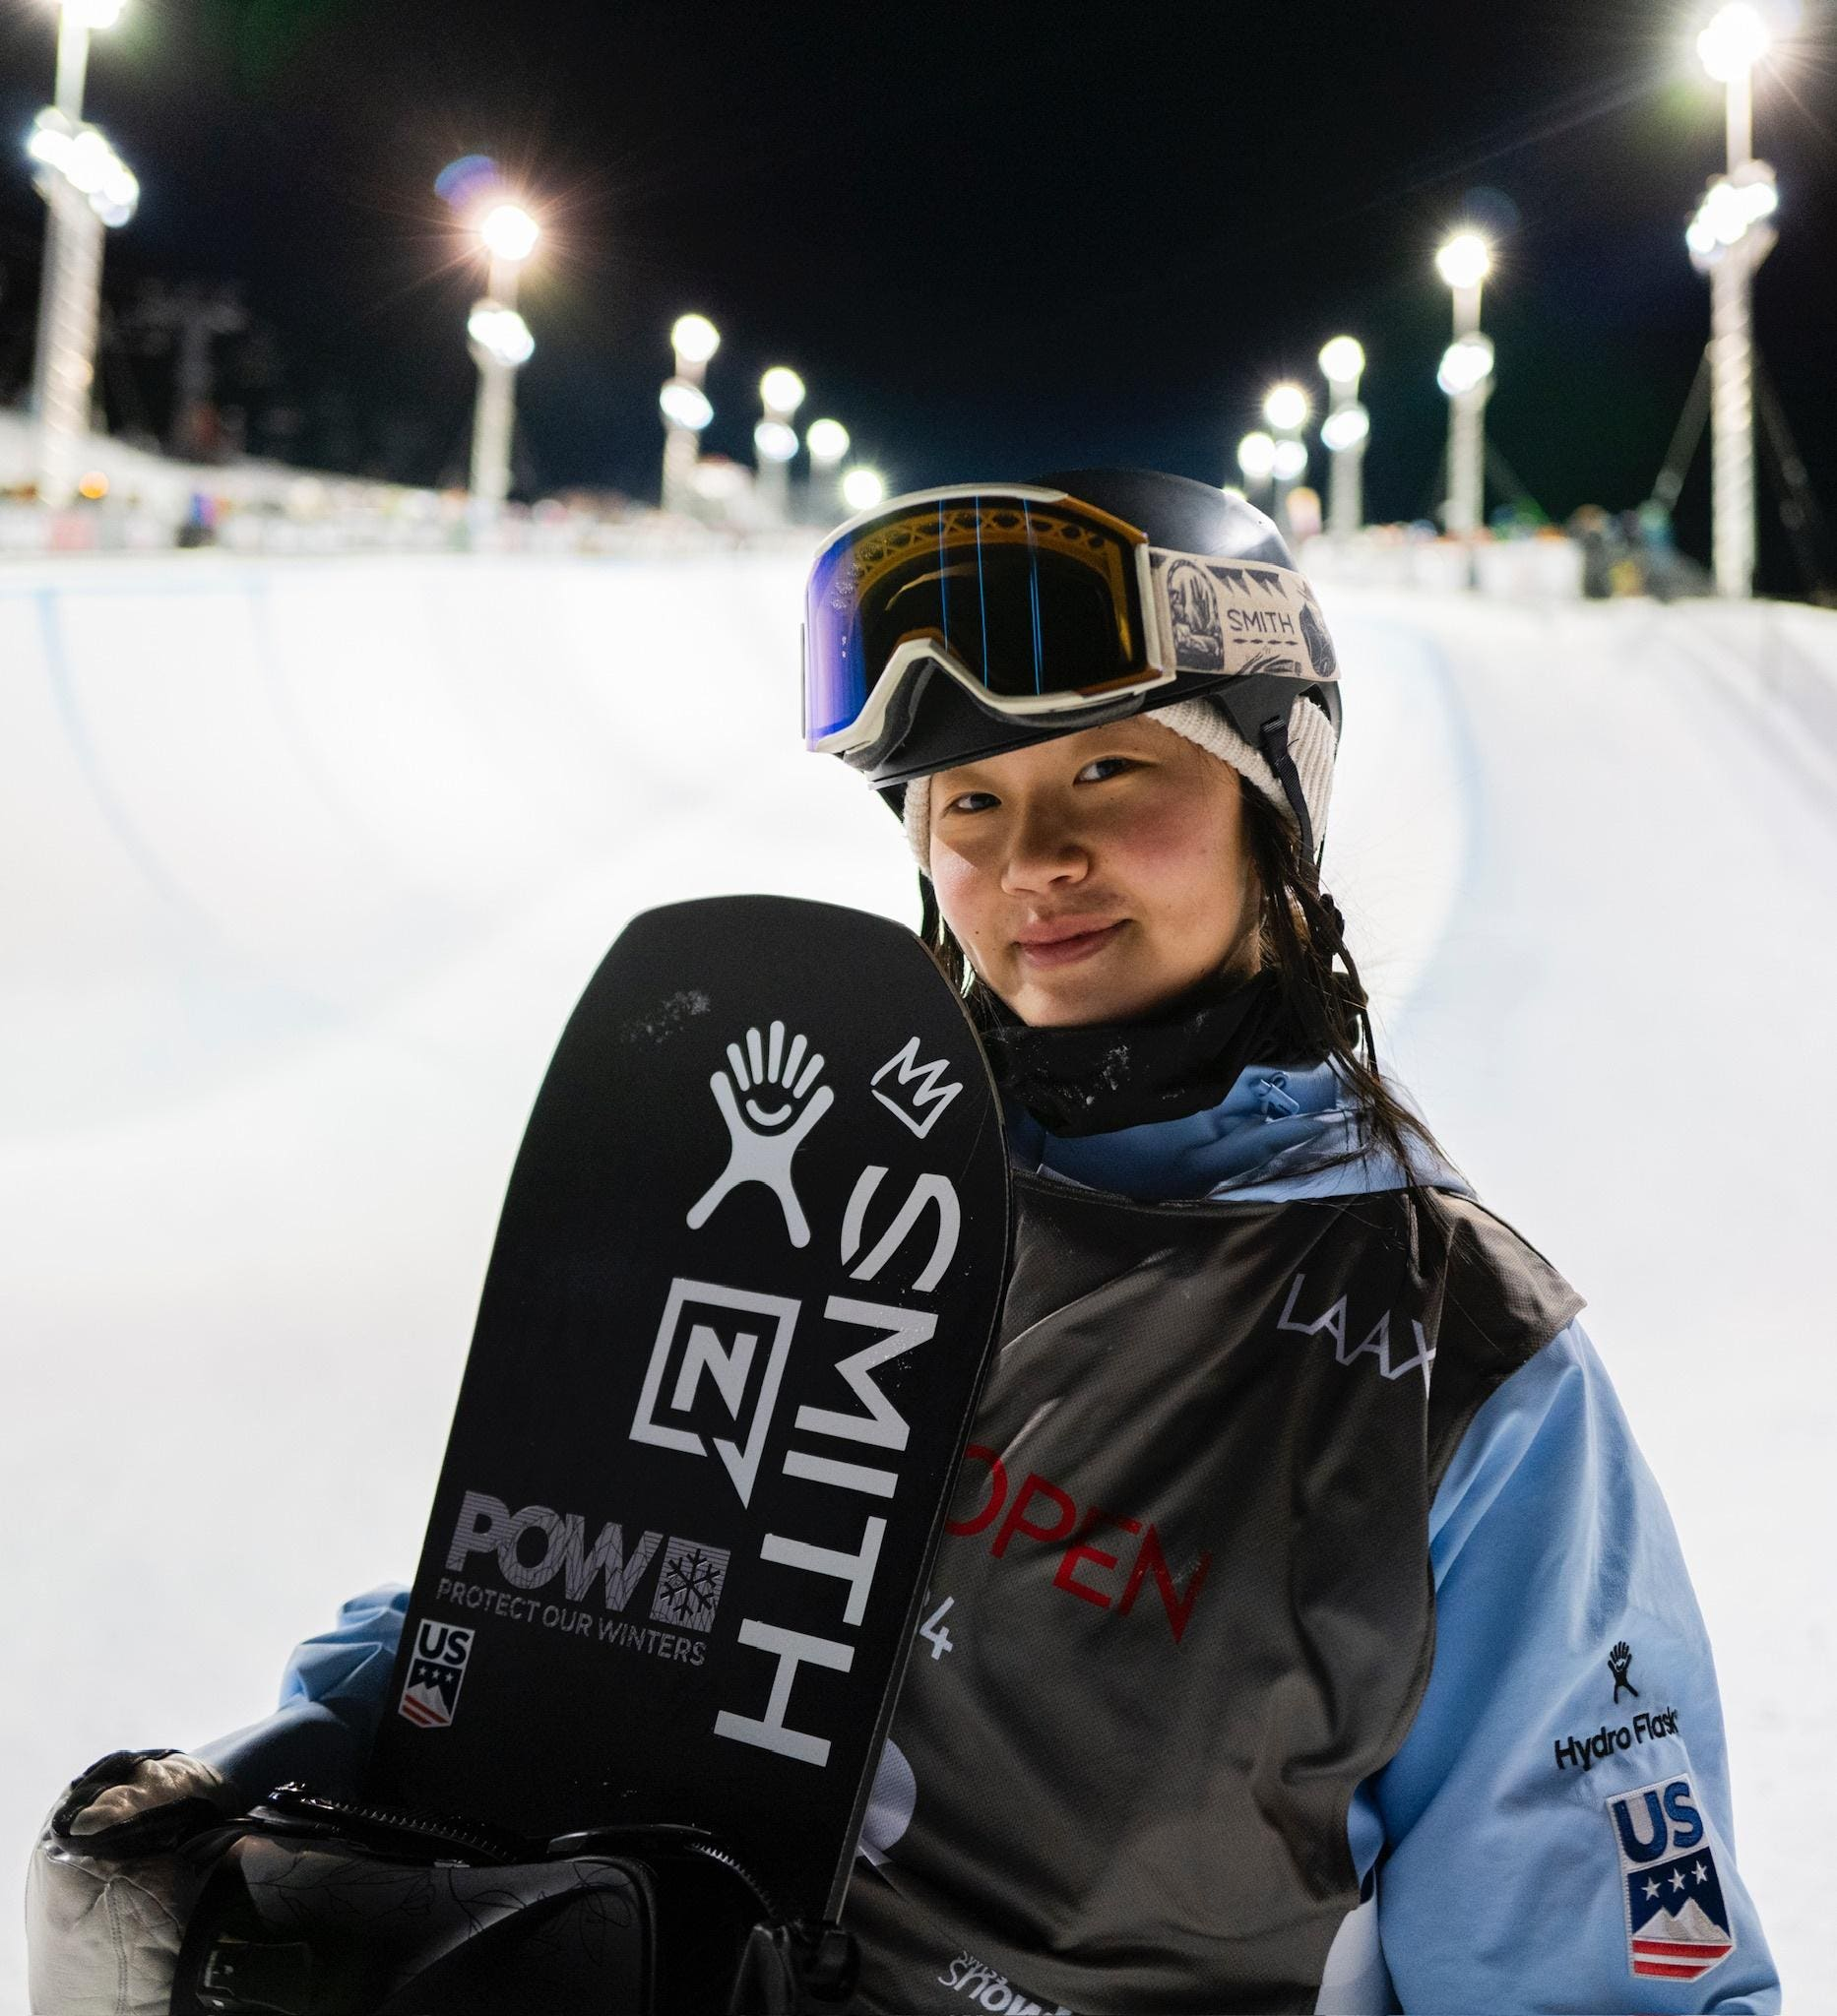snowboarder: (413, 467, 1772, 2016)
